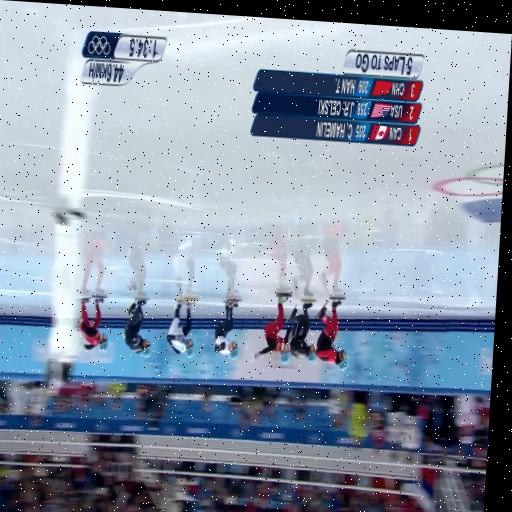Skater: (253, 293, 290, 362), (316, 297, 347, 369), (166, 298, 195, 357), (288, 299, 315, 361), (124, 298, 150, 357), (79, 296, 106, 351), (213, 299, 237, 359)
